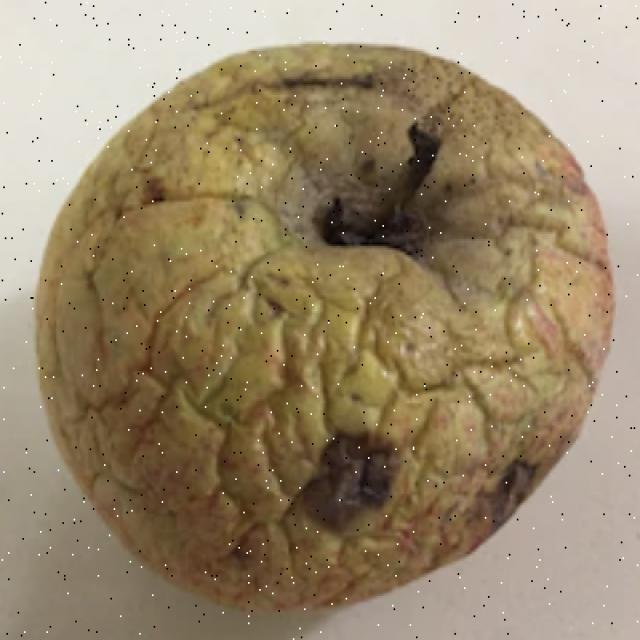Rotten: (53, 33, 592, 605)
